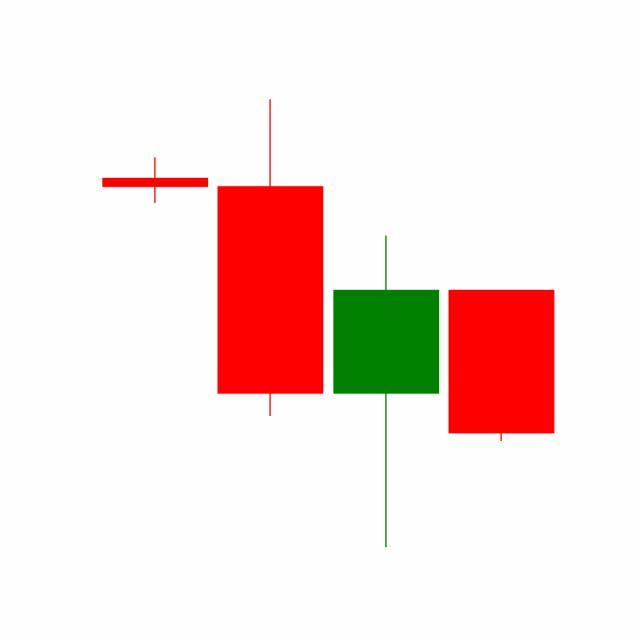Marubozu: (444, 288, 560, 443)
